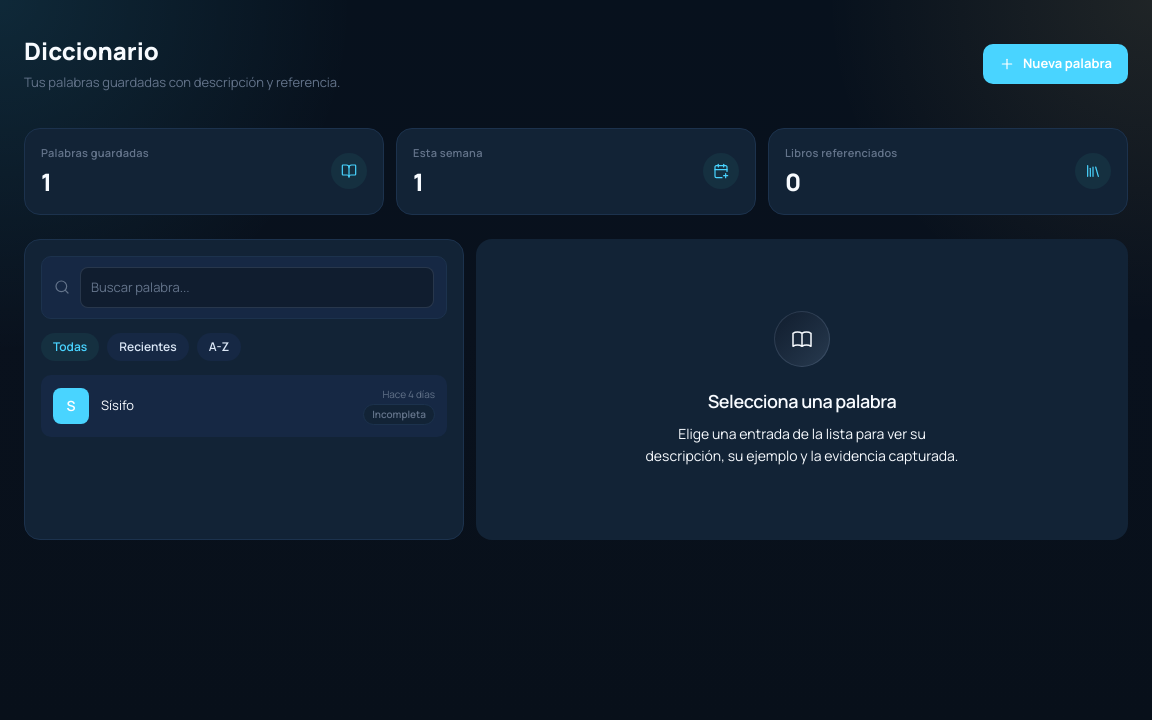
Test: DictionaryView detail panel (4C) › renders no quote and no reference card when the evidence is null
Click the button with test id "dictionary-row".
click(71, 406)  # box x1=41 y1=375 x2=447 y2=437
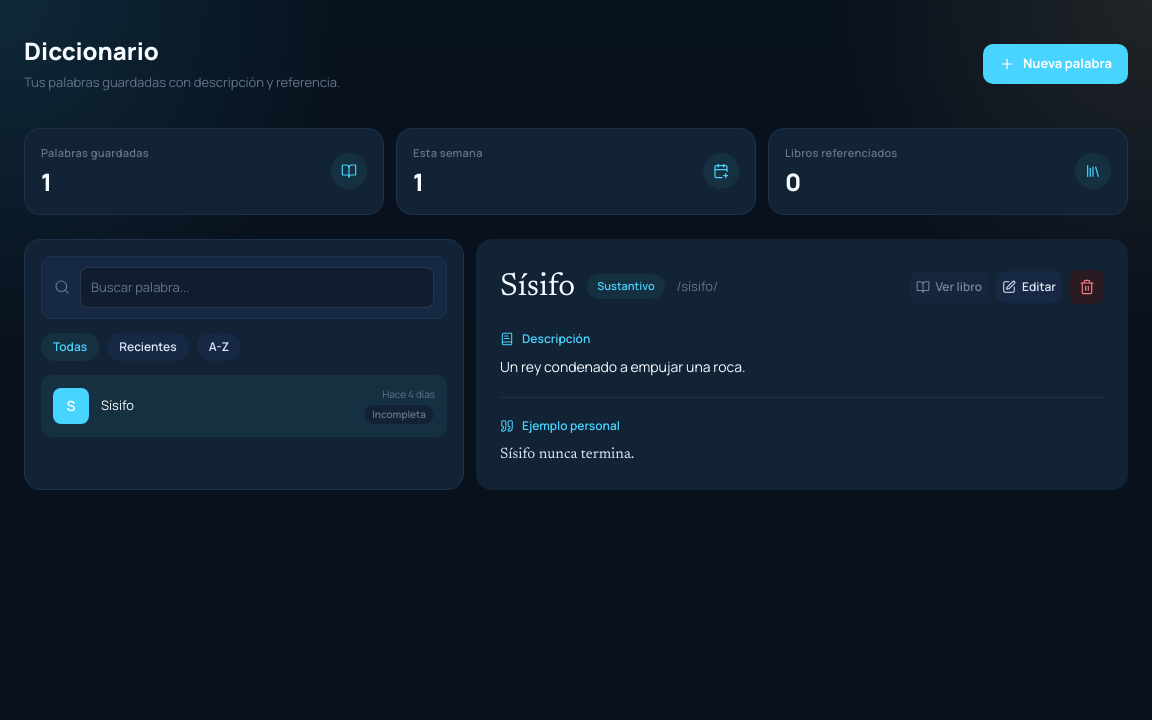
Expected: the text "Un rey condenado a empujar una roca." is shown, x1=500 y1=356 x2=746 y2=376
Expected: the text "Sísifo nunca termina." is shown, x1=500 y1=446 x2=634 y2=462
